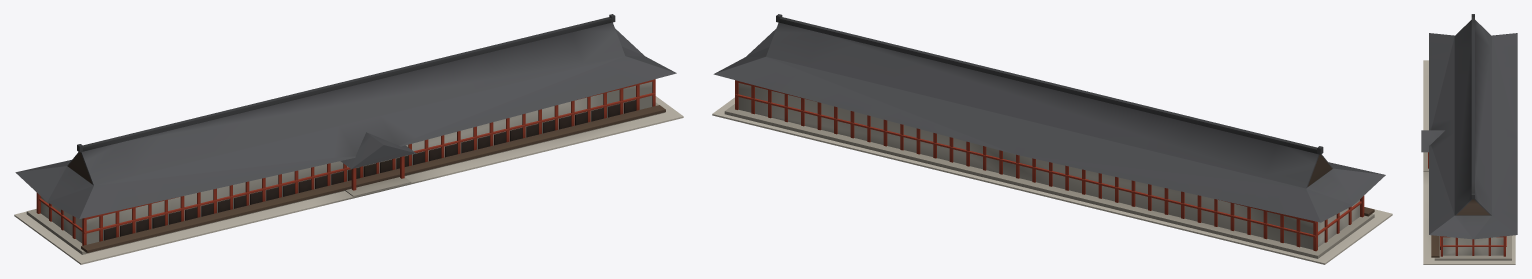
File: sanjusangendo.glb
The picture shows the model from 3 angles, left to right: view 1: azimuth 30°, elevation 25°; view 2: azimuth 150°, elevation 25°; view 3: azimuth 270°, elevation 25°; orthographic projection. The views are drawn at different scales.
Parts seen in each view (by area): view 1: p2_roofs, p1_halls, p0_grounds; view 2: p2_roofs, p1_halls, p0_grounds; view 3: p2_roofs, p1_halls, p0_grounds.
Part boxes in pixels (x1=…): p2_roofs: x1=15, y1=14, x2=676, y2=219; p1_halls: x1=26, y1=79, x2=665, y2=254; p0_grounds: x1=14, y1=96, x2=683, y2=264; p2_roofs: x1=713, y1=14, x2=1385, y2=222; p1_halls: x1=724, y1=80, x2=1374, y2=258; p0_grounds: x1=712, y1=97, x2=1392, y2=264; p2_roofs: x1=1421, y1=14, x2=1517, y2=239; p1_halls: x1=1423, y1=152, x2=1511, y2=260; p0_grounds: x1=1423, y1=60, x2=1515, y2=264.
Size of the model in its own units: 125 by 16.79 by 25.
